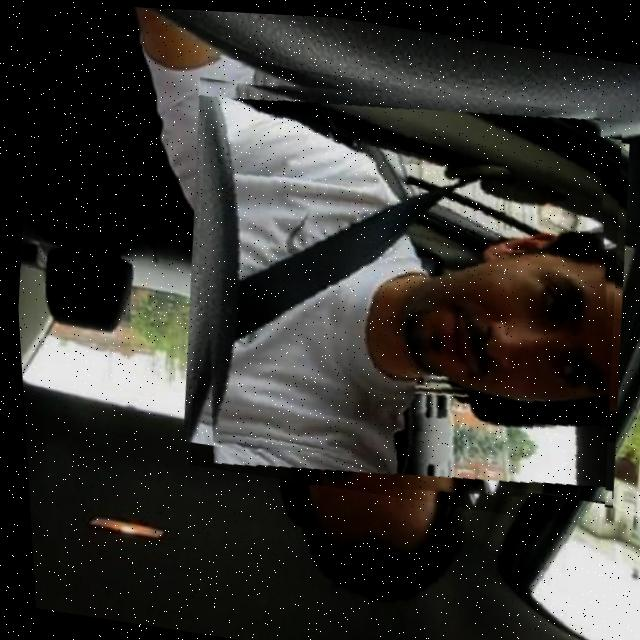seatbelt: (164, 51, 640, 525)
